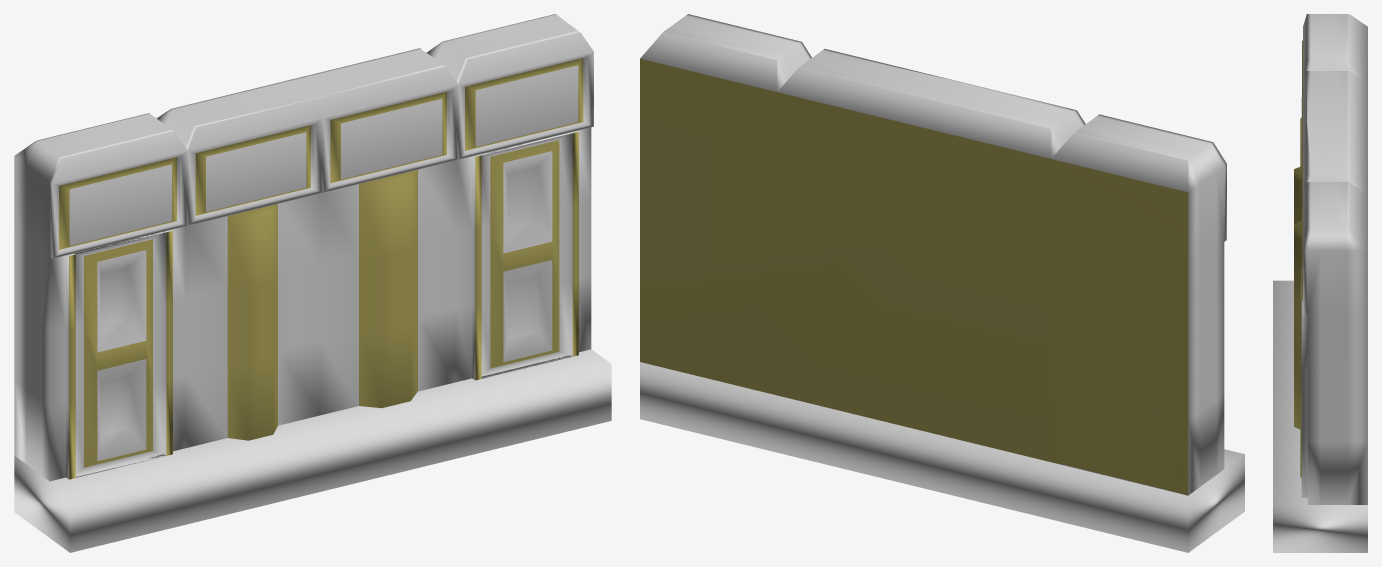
Rendered from wallSoft.fbx.
The picture shows the model from 3 angles, left to right: view 1: azimuth 30°, elevation 25°; view 2: azimuth 150°, elevation 25°; view 3: azimuth 270°, elevation 25°; orthographic projection. The views are drawn at different scales.
Parts seen in each view (by area): view 1: pCube3; view 2: pCube3; view 3: pCube3.
Part boxes in pixels (left/top/right/bottom): pCube3: left=14, top=14, right=611, bottom=552; pCube3: left=640, top=14, right=1244, bottom=552; pCube3: left=1273, top=14, right=1367, bottom=552.
Size of the model in its own units: 10.01 by 6.65 by 1.79.
